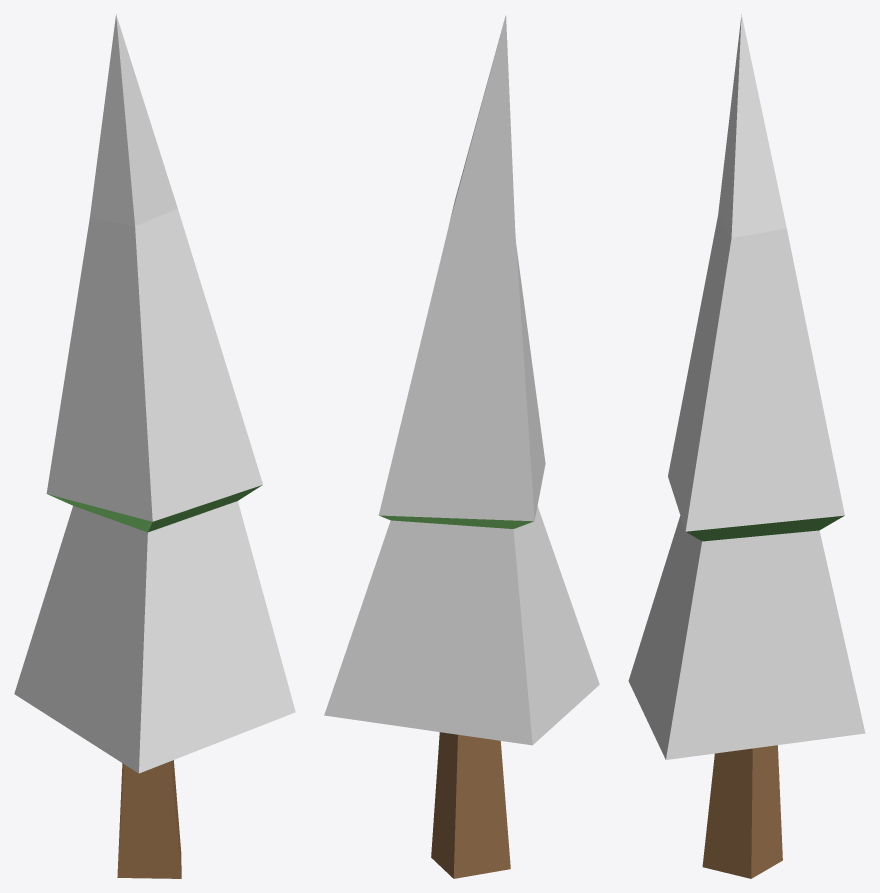
Rendered from Fir_Tree_s_Snow_08_LOD.fbx.
The picture shows the model from 3 angles, left to right: view 1: azimuth 30°, elevation 25°; view 2: azimuth 150°, elevation 25°; view 3: azimuth 270°, elevation 25°; orthographic projection. The views are drawn at different scales.
Parts seen in each view (by area): view 1: Fir_Tree_s_Snow_08_LOD0; view 2: Fir_Tree_s_Snow_08_LOD0; view 3: Fir_Tree_s_Snow_08_LOD0.
Boxes of the visible parts, x1,y1,x2,y2 form: Fir_Tree_s_Snow_08_LOD0: (14, 14, 295, 878); Fir_Tree_s_Snow_08_LOD0: (324, 15, 599, 878); Fir_Tree_s_Snow_08_LOD0: (628, 14, 865, 878).
Size of what is drawn, in the model's own units: 37.08 by 149 by 38.49.
